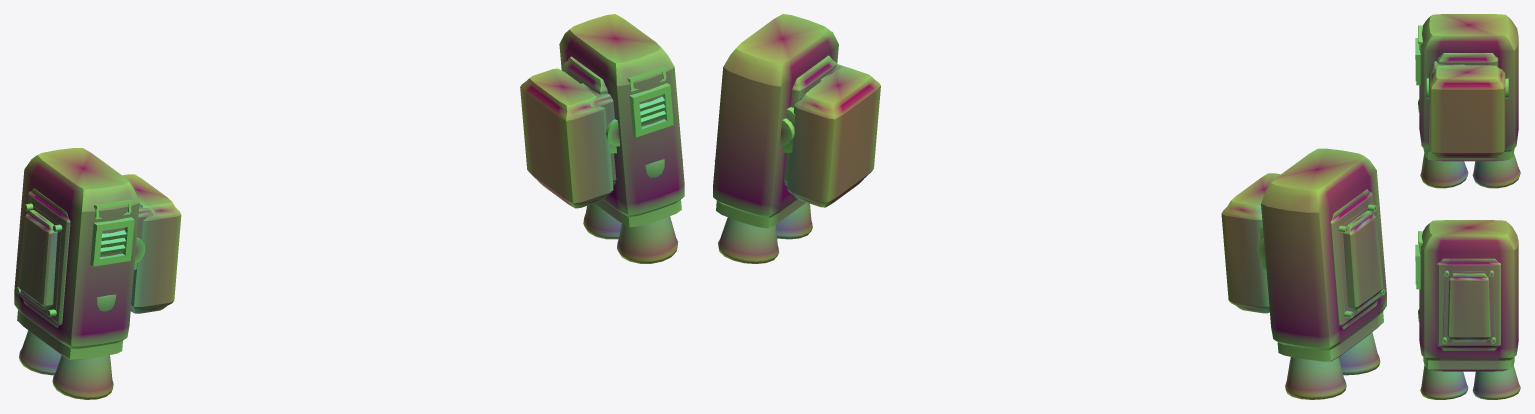
Rendered from llm_gen_leg_thrusters_094_c7b248.glb.
3 views of the same model, side by side, from view 1: azimuth 30°, elevation 25°; view 2: azimuth 150°, elevation 25°; view 3: azimuth 270°, elevation 25° (orthographic). The views are drawn at different scales.
Parts seen in each view (by area): view 1: hover_cowling_armor_1_cobalt_anodized_l, hover_cowling_armor_1_cobalt_anodized_r, adapter_calf_clamp_r, adapter_calf_clamp_l, hover_flank_panel_5_titanium_silver_l, hover_bell_fwd_7_vernier_bell_vernier_l, hover_bell_fwd_7_vernier_bell_vernier_r, adapter_sub_hover_flank_dark_4_adapter_dark_l, adapter_sub_hover_manifold_dark_6_adapter_dark_l, adapter_sub_hover_intake_grille_2_dark_l, adapter_sub_hover_intake_grille_2_dark_r, hover_bell_aft_8_vernier_bell_vernier_l (+3 smaller); view 2: hover_cowling_armor_1_cobalt_anodized_l, hover_cowling_armor_1_cobalt_anodized_r, adapter_calf_clamp_r, adapter_calf_clamp_l, hover_flank_panel_5_titanium_silver_l, hover_bell_aft_8_vernier_bell_vernier_l, hover_bell_aft_8_vernier_bell_vernier_r, adapter_sub_hover_flank_dark_4_adapter_dark_l, adapter_sub_hover_manifold_dark_6_adapter_dark_l, hover_bell_fwd_7_vernier_bell_vernier_l, adapter_sub_hover_manifold_dark_6_adapter_dark_r, hover_bell_fwd_7_vernier_bell_vernier_r (+1 smaller); view 3: hover_cowling_armor_1_cobalt_anodized_r, adapter_calf_clamp_l, hover_cowling_armor_1_cobalt_anodized_l, hover_flank_panel_5_titanium_silver_r, adapter_sub_hover_flank_dark_4_adapter_dark_r, hover_bell_aft_8_vernier_bell_vernier_r, hover_bell_fwd_7_vernier_bell_vernier_r, hover_bell_aft_8_vernier_bell_vernier_l, hover_bell_fwd_7_vernier_bell_vernier_l, adapter_sub_hover_manifold_dark_6_adapter_dark_r, hover_core_mount_0_adapter_dark_l, adapter_sub_hover_manifold_dark_6_adapter_dark_l (+4 smaller).
Part boxes in pixels (left/top/right/bottom): hover_cowling_armor_1_cobalt_anodized_l: left=14, top=148, right=139, bottom=348; hover_cowling_armor_1_cobalt_anodized_r: left=559, top=14, right=684, bottom=216; adapter_calf_clamp_r: left=520, top=68, right=616, bottom=208; adapter_calf_clamp_l: left=122, top=174, right=181, bottom=313; hover_flank_panel_5_titanium_silver_l: left=16, top=203, right=62, bottom=316; hover_bell_fwd_7_vernier_bell_vernier_l: left=52, top=355, right=113, bottom=399; hover_bell_fwd_7_vernier_bell_vernier_r: left=617, top=216, right=677, bottom=263; adapter_sub_hover_flank_dark_4_adapter_dark_l: left=20, top=188, right=70, bottom=327; adapter_sub_hover_manifold_dark_6_adapter_dark_l: left=17, top=310, right=122, bottom=359; adapter_sub_hover_intake_grille_2_dark_l: left=90, top=217, right=134, bottom=266; adapter_sub_hover_intake_grille_2_dark_r: left=629, top=83, right=673, bottom=137; hover_bell_aft_8_vernier_bell_vernier_l: left=19, top=330, right=61, bottom=375; hover_cowling_armor_1_cobalt_anodized_l: left=1261, top=148, right=1386, bottom=350; hover_cowling_armor_1_cobalt_anodized_r: left=713, top=14, right=838, bottom=217; adapter_calf_clamp_r: left=783, top=67, right=880, bottom=207; adapter_calf_clamp_l: left=1221, top=173, right=1280, bottom=313; hover_flank_panel_5_titanium_silver_l: left=1338, top=204, right=1385, bottom=318; hover_bell_aft_8_vernier_bell_vernier_l: left=1285, top=357, right=1346, bottom=399; hover_bell_aft_8_vernier_bell_vernier_r: left=718, top=217, right=779, bottom=263; adapter_sub_hover_flank_dark_4_adapter_dark_l: left=1330, top=189, right=1381, bottom=329; adapter_sub_hover_manifold_dark_6_adapter_dark_l: left=1277, top=311, right=1383, bottom=361; hover_bell_fwd_7_vernier_bell_vernier_l: left=1339, top=332, right=1380, bottom=375; adapter_sub_hover_manifold_dark_6_adapter_dark_r: left=716, top=199, right=805, bottom=228; hover_bell_fwd_7_vernier_bell_vernier_r: left=776, top=202, right=812, bottom=239; hover_cowling_armor_1_cobalt_anodized_r: left=1419, top=220, right=1518, bottom=360; adapter_calf_clamp_l: left=1429, top=65, right=1505, bottom=157; hover_cowling_armor_1_cobalt_anodized_l: left=1419, top=14, right=1518, bottom=151; hover_flank_panel_5_titanium_silver_r: left=1442, top=270, right=1495, bottom=343; adapter_sub_hover_flank_dark_4_adapter_dark_r: left=1437, top=258, right=1500, bottom=350; hover_bell_aft_8_vernier_bell_vernier_r: left=1472, top=366, right=1520, bottom=399; hover_bell_fwd_7_vernier_bell_vernier_r: left=1420, top=365, right=1468, bottom=399; hover_bell_aft_8_vernier_bell_vernier_l: left=1472, top=153, right=1520, bottom=188; hover_bell_fwd_7_vernier_bell_vernier_l: left=1420, top=154, right=1468, bottom=188; adapter_sub_hover_manifold_dark_6_adapter_dark_r: left=1423, top=357, right=1514, bottom=371; hover_core_mount_0_adapter_dark_l: left=1437, top=53, right=1498, bottom=66; adapter_sub_hover_manifold_dark_6_adapter_dark_l: left=1423, top=148, right=1514, bottom=161.
Size of the model in its own units: 82.74 by 25.73 by 15.18.
